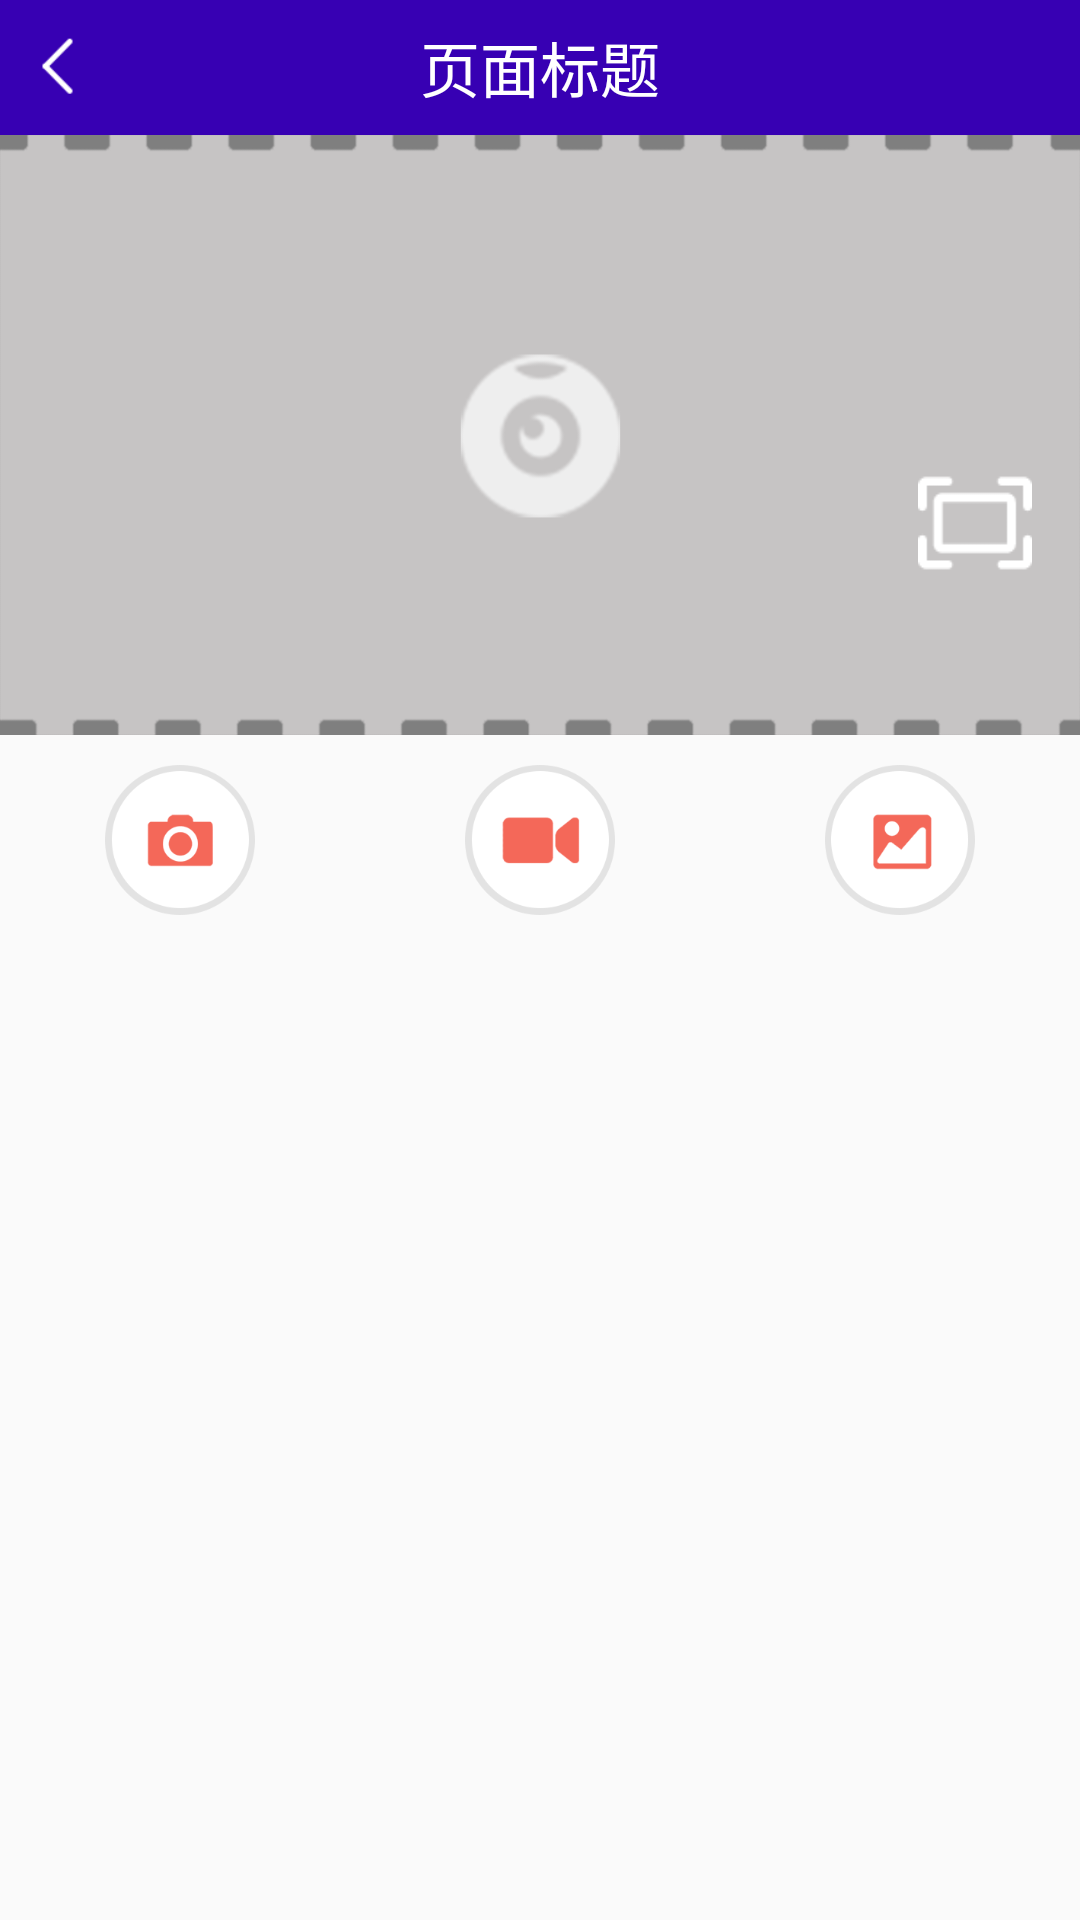

Icons on this 1080px×1920px Android screen, each with the point to tap as (x,y):
arrow: (57,66)
fullscreen: (975,523)
record: (540,840)
takepic: (180,840)
